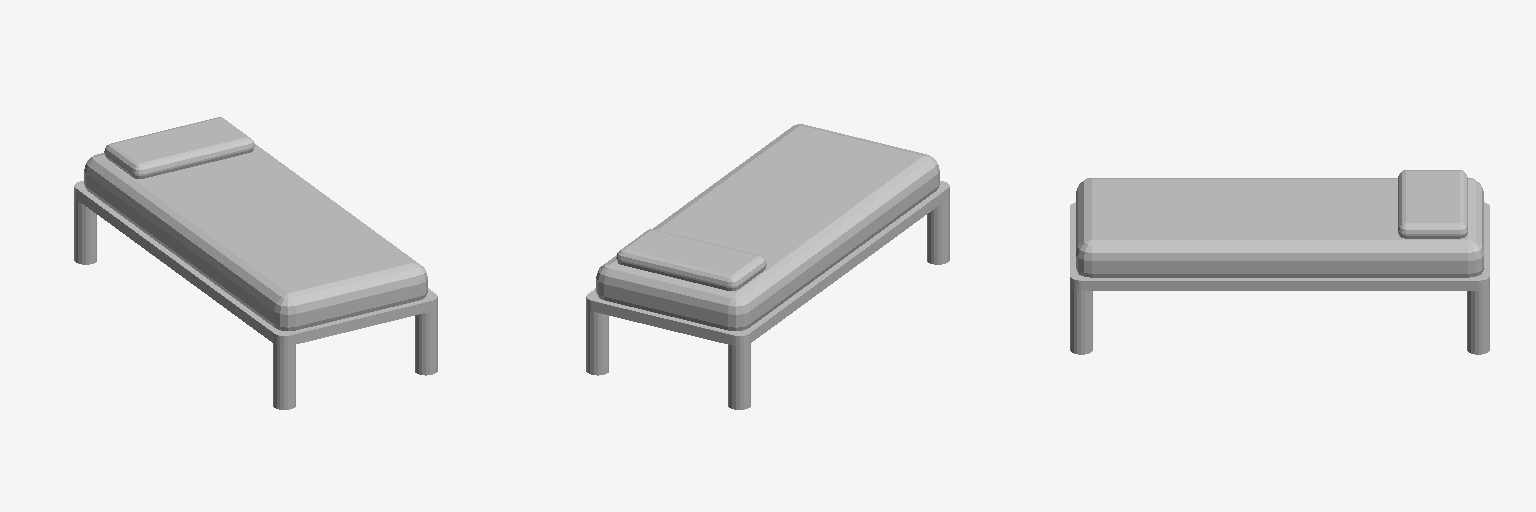
File: Синяя кушетка.obj
3 renders of one model, left to right at view 1: azimuth 30°, elevation 25°; view 2: azimuth 150°, elevation 25°; view 3: azimuth 270°, elevation 25°, orthographic.
Visible parts, largest first — view 1: ChamferBox27_1, Rectangle02_2, ChamferBox26_7, Cylinder01_3, Cylinder02_4, Cylinder04_6; view 2: ChamferBox27_1, Rectangle02_2, ChamferBox26_7, Cylinder04_6, Cylinder03_5, Cylinder01_3; view 3: ChamferBox27_1, Rectangle02_2, ChamferBox26_7, Cylinder02_4, Cylinder03_5.
Boxes of the visible parts, box(x1,y1,x2,y2) form: ChamferBox27_1: box(84, 143, 427, 330); Rectangle02_2: box(74, 181, 437, 346); ChamferBox26_7: box(104, 117, 254, 178); Cylinder01_3: box(273, 344, 295, 409); Cylinder02_4: box(415, 308, 437, 375); Cylinder04_6: box(74, 197, 96, 264); ChamferBox27_1: box(596, 124, 939, 330); Rectangle02_2: box(586, 181, 949, 346); ChamferBox26_7: box(616, 229, 766, 290); Cylinder04_6: box(728, 344, 750, 409); Cylinder03_5: box(586, 308, 608, 375); Cylinder01_3: box(927, 197, 949, 264); ChamferBox27_1: box(1076, 178, 1483, 277); Rectangle02_2: box(1070, 202, 1489, 290); ChamferBox26_7: box(1398, 170, 1467, 238); Cylinder02_4: box(1070, 288, 1092, 354); Cylinder03_5: box(1467, 288, 1489, 354).
Bounding box in the file's own units: 80 × 56.01 × 180.